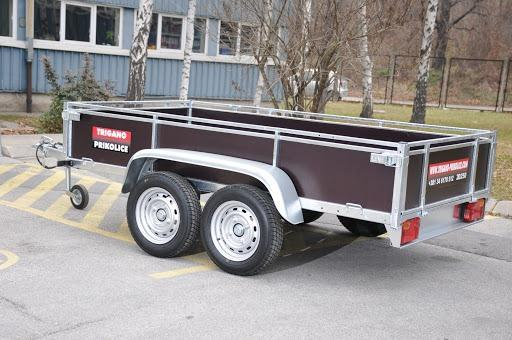trailer: (62, 100, 496, 249)
